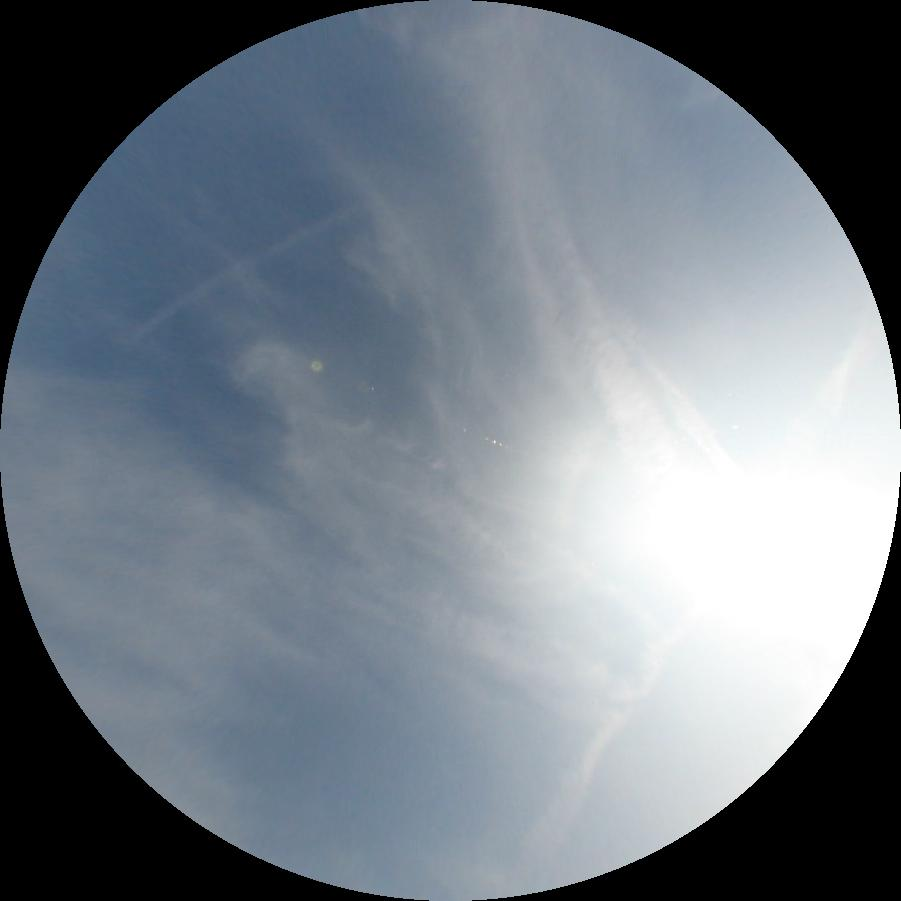contrail veryold: (524, 310, 883, 884), (234, 344, 686, 706), (485, 145, 690, 499), (132, 208, 350, 339), (608, 303, 733, 468)
sun: (646, 464, 898, 634)
